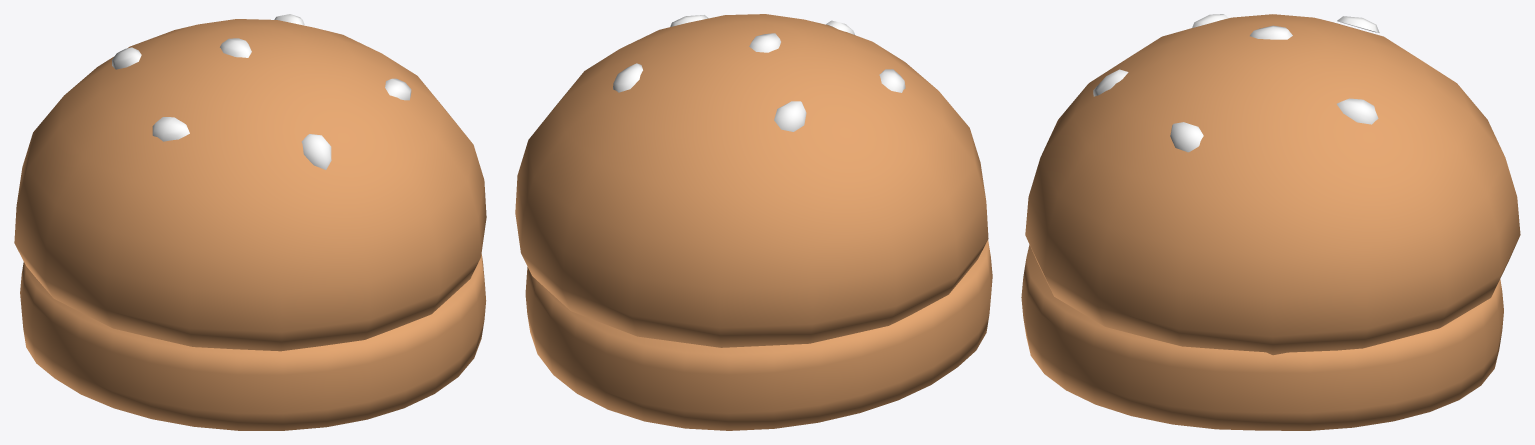
File: BurgerBread.fbx
The picture shows the model from 3 angles, left to right: view 1: azimuth 30°, elevation 25°; view 2: azimuth 150°, elevation 25°; view 3: azimuth 270°, elevation 25°; orthographic projection. The views are drawn at different scales.
Parts seen in each view (by area): view 1: TopBread.001, LowerBread; view 2: TopBread.001, LowerBread; view 3: TopBread.001, LowerBread.
Boxes of the visible parts, x1,y1,x2,y2 form: TopBread.001: [14, 14, 486, 351]; LowerBread: [20, 254, 486, 430]; TopBread.001: [515, 14, 988, 347]; LowerBread: [525, 240, 992, 430]; TopBread.001: [1025, 14, 1520, 355]; LowerBread: [1021, 244, 1503, 430].
Bounding box in the file's own units: 65.35 × 46.53 × 66.46.
